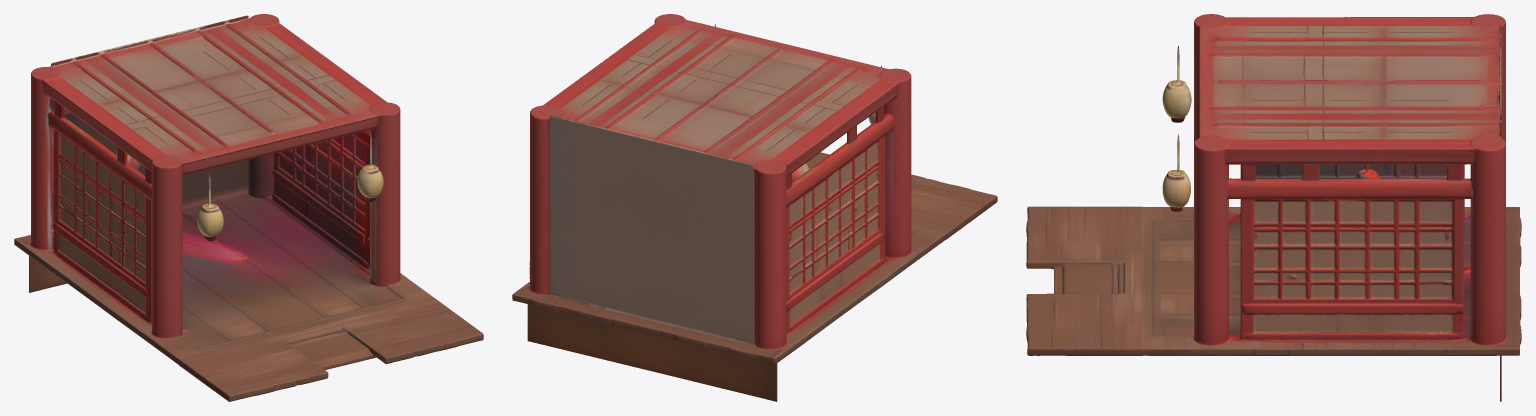
The model's file is arena_dojo.glb.
3 views of the same model, side by side, from view 1: azimuth 30°, elevation 25°; view 2: azimuth 150°, elevation 25°; view 3: azimuth 270°, elevation 25° (orthographic). The views are drawn at different scales.
Visible parts, largest first — view 1: tripo_node_359d9dc2-7198-45f9-a2c2-a948563d4ae1; view 2: tripo_node_359d9dc2-7198-45f9-a2c2-a948563d4ae1; view 3: tripo_node_359d9dc2-7198-45f9-a2c2-a948563d4ae1.
Part boxes in pixels (x1=…): tripo_node_359d9dc2-7198-45f9-a2c2-a948563d4ae1: x1=14, y1=14, x2=483, y2=401; tripo_node_359d9dc2-7198-45f9-a2c2-a948563d4ae1: x1=512, y1=14, x2=997, y2=401; tripo_node_359d9dc2-7198-45f9-a2c2-a948563d4ae1: x1=1026, y1=14, x2=1521, y2=401.
Size of the model in its own units: 0.6819 by 0.5715 by 1.
1 material, 1 textured.
